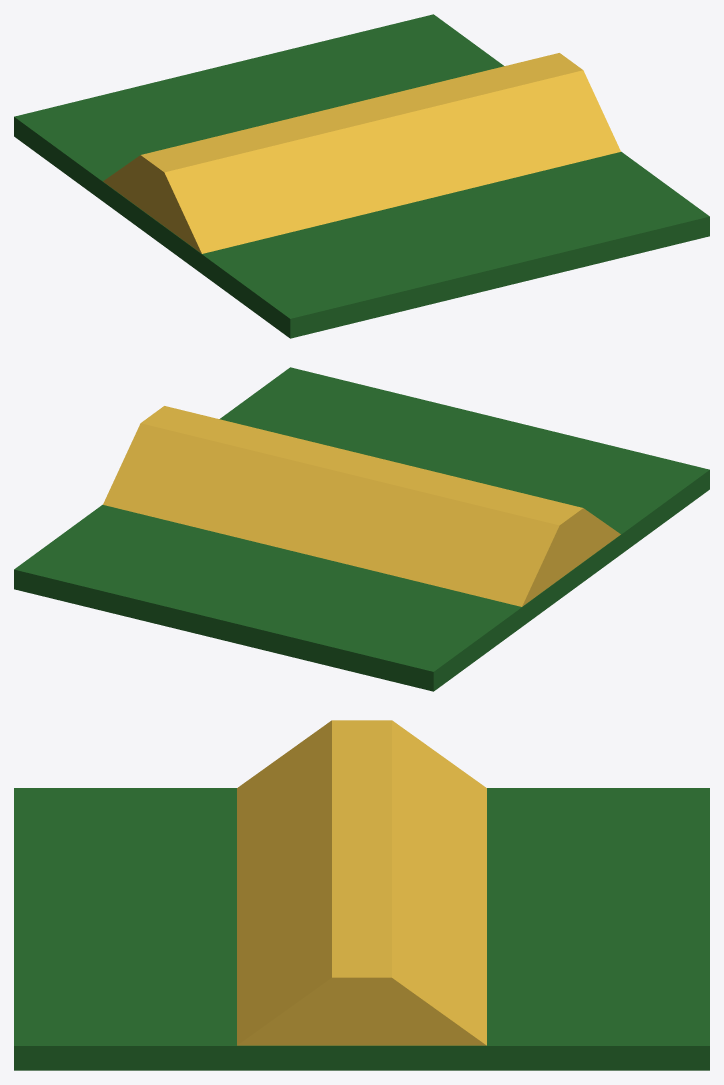
The model's file is rect2.gltf.
The picture shows the model from 3 angles, top to bottom: view 1: azimuth 30°, elevation 25°; view 2: azimuth 150°, elevation 25°; view 3: azimuth 270°, elevation 25°; orthographic projection. The views are drawn at different scales.
Parts seen in each view (by area): view 1: Cube.001, Cube; view 2: Cube.001, Cube; view 3: Cube.001, Cube.
Boxes of the visible parts, x1=… form: Cube.001: x1=14, y1=14, x2=709, y2=338; Cube: x1=103, y1=53, x2=620, y2=253; Cube.001: x1=14, y1=367, x2=709, y2=691; Cube: x1=103, y1=406, x2=620, y2=606; Cube.001: x1=14, y1=788, x2=709, y2=1070; Cube: x1=237, y1=720, x2=486, y2=1045.
Size of the model in its own units: 4.9 by 0.8222 by 5.58.
